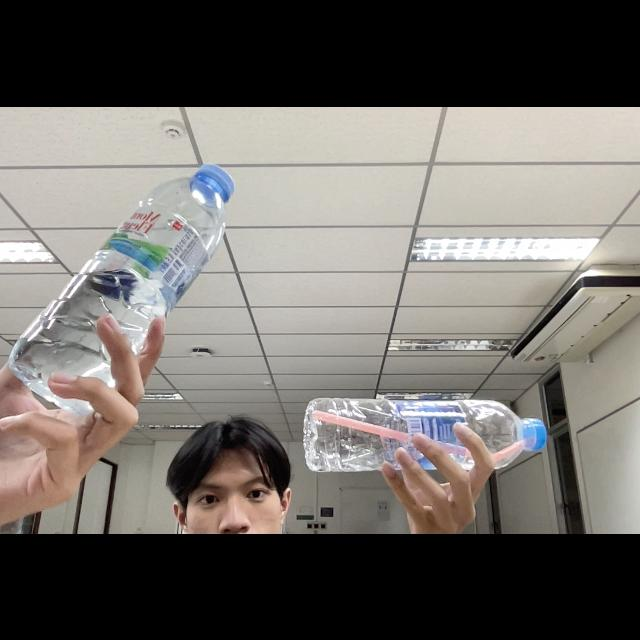plastic_bottle: (5, 160, 242, 416), (300, 391, 552, 472)
plastic_bottle_cap: (192, 162, 234, 204), (517, 414, 547, 454)
straw: (308, 410, 534, 464)
